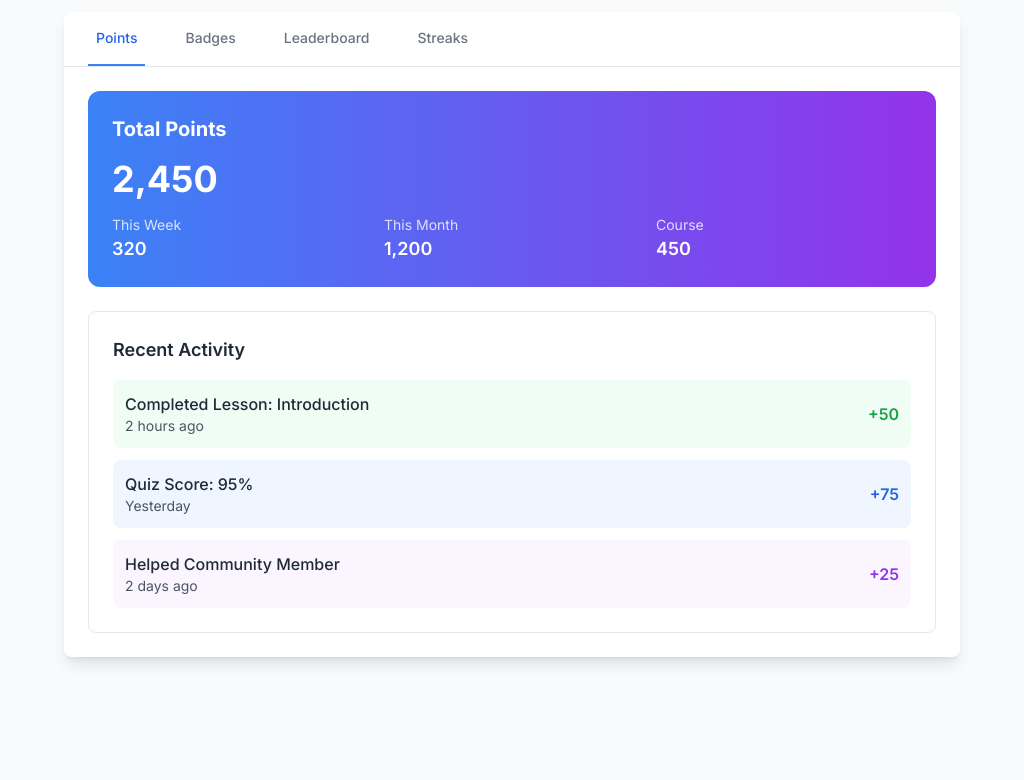
Interactive Learning Components › GamificationEngine › switches between tabs
Click the button "Badges".
click(211, 39)  # box 178,12 -> 244,66
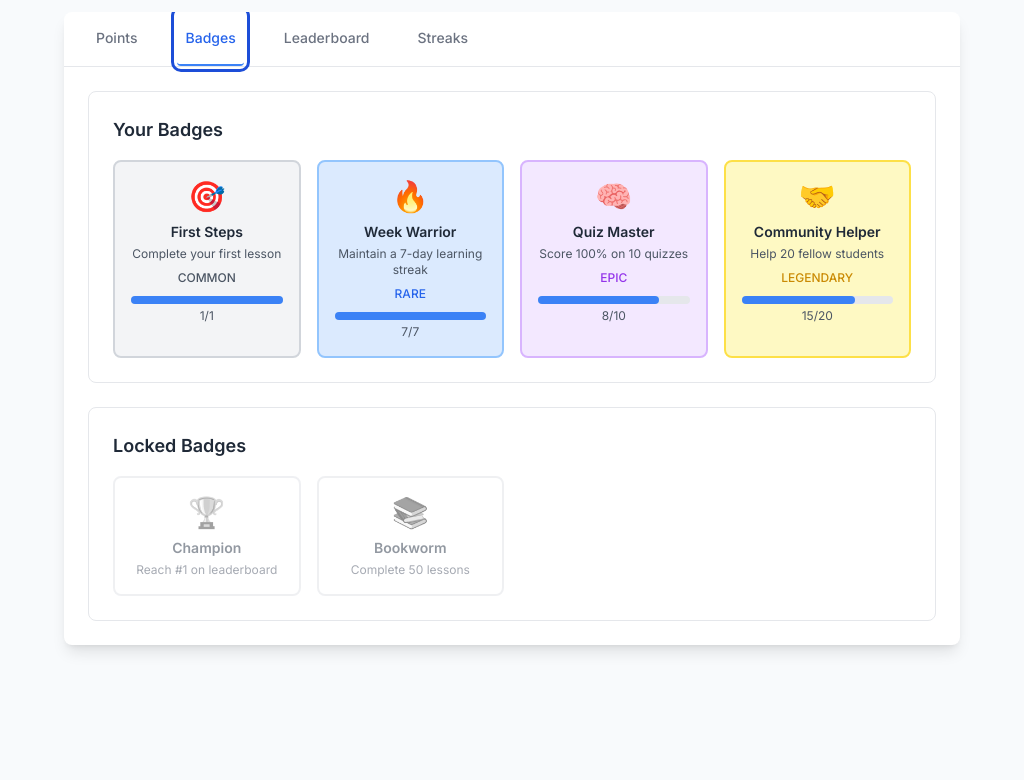
Check: the heading "Your Badges" is shown, box 113,119 -> 223,140
